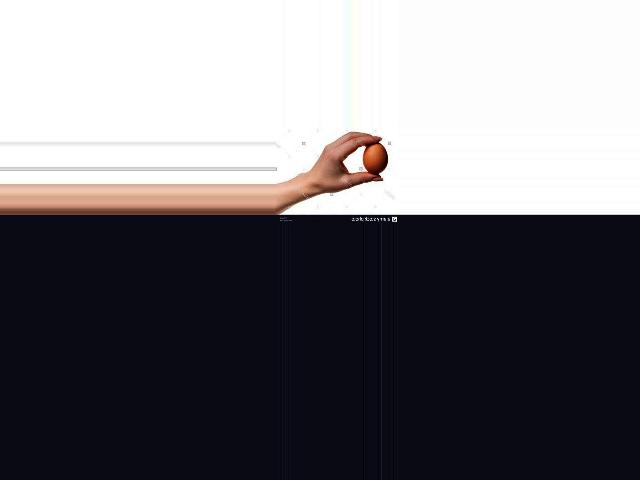egg: (361, 143, 387, 174)
